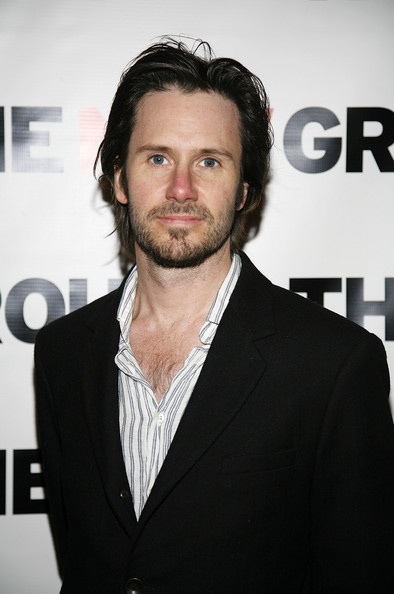bad: (124, 125, 253, 254)
